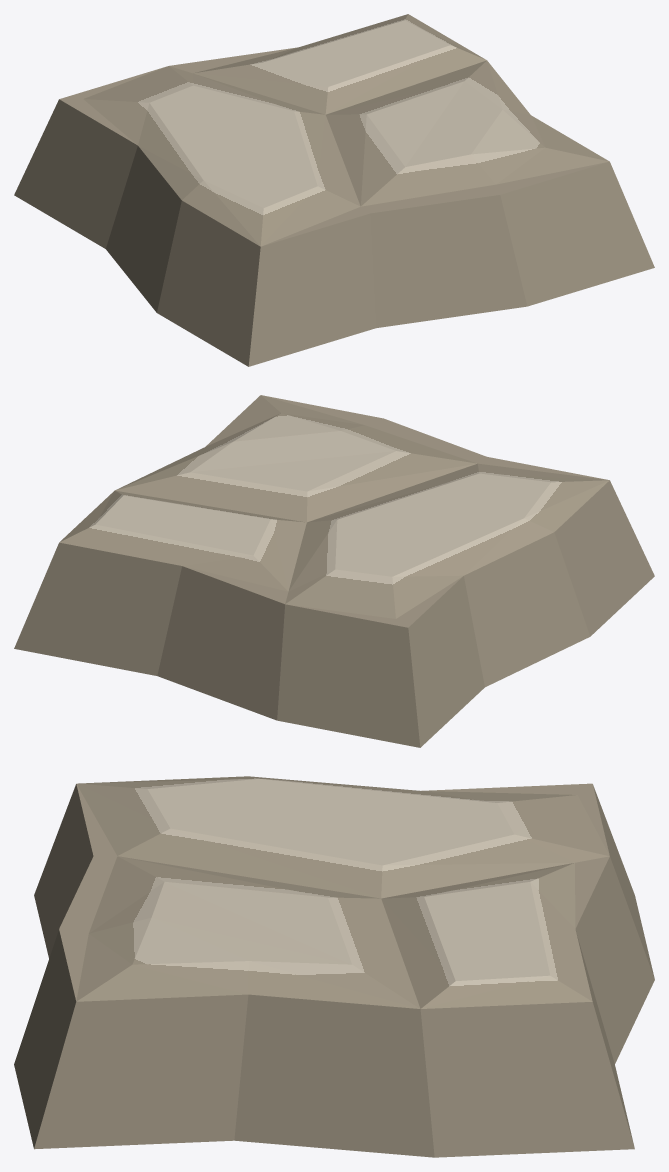
The model's file is Rock_04.fbx.
3 views of the same model, one above another, from view 1: azimuth 30°, elevation 25°; view 2: azimuth 150°, elevation 25°; view 3: azimuth 270°, elevation 25° (orthographic). The views are drawn at different scales.
Parts seen in each view (by area): view 1: Rock_04; view 2: Rock_04; view 3: Rock_04.
Boxes of the visible parts, x1=… form: Rock_04: x1=14, y1=14, x2=654, y2=366; Rock_04: x1=14, y1=395, x2=654, y2=747; Rock_04: x1=14, y1=776, x2=654, y2=1157.
Bounding box in the file's own units: 60.16 × 15.05 × 60.16.
1 material, 1 textured.
